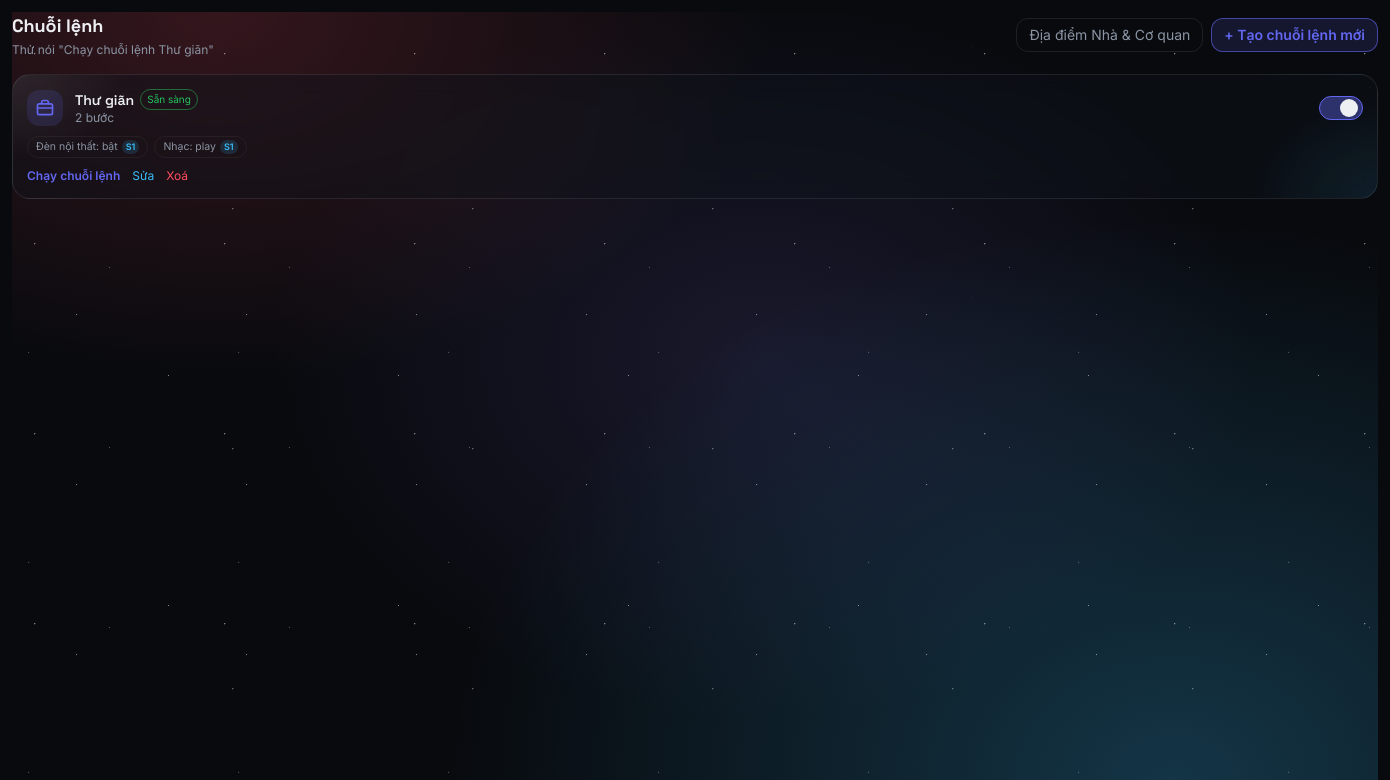
RoutinesView — chạy Routine, panel tiến độ (#292) › chưa có phiên lái -> báo lỗi, KHÔNG gọi runRoutine
Click the button "Chạy chuỗi lệnh" at point(74, 176), box top-left (27, 168), bottom-right (120, 184)
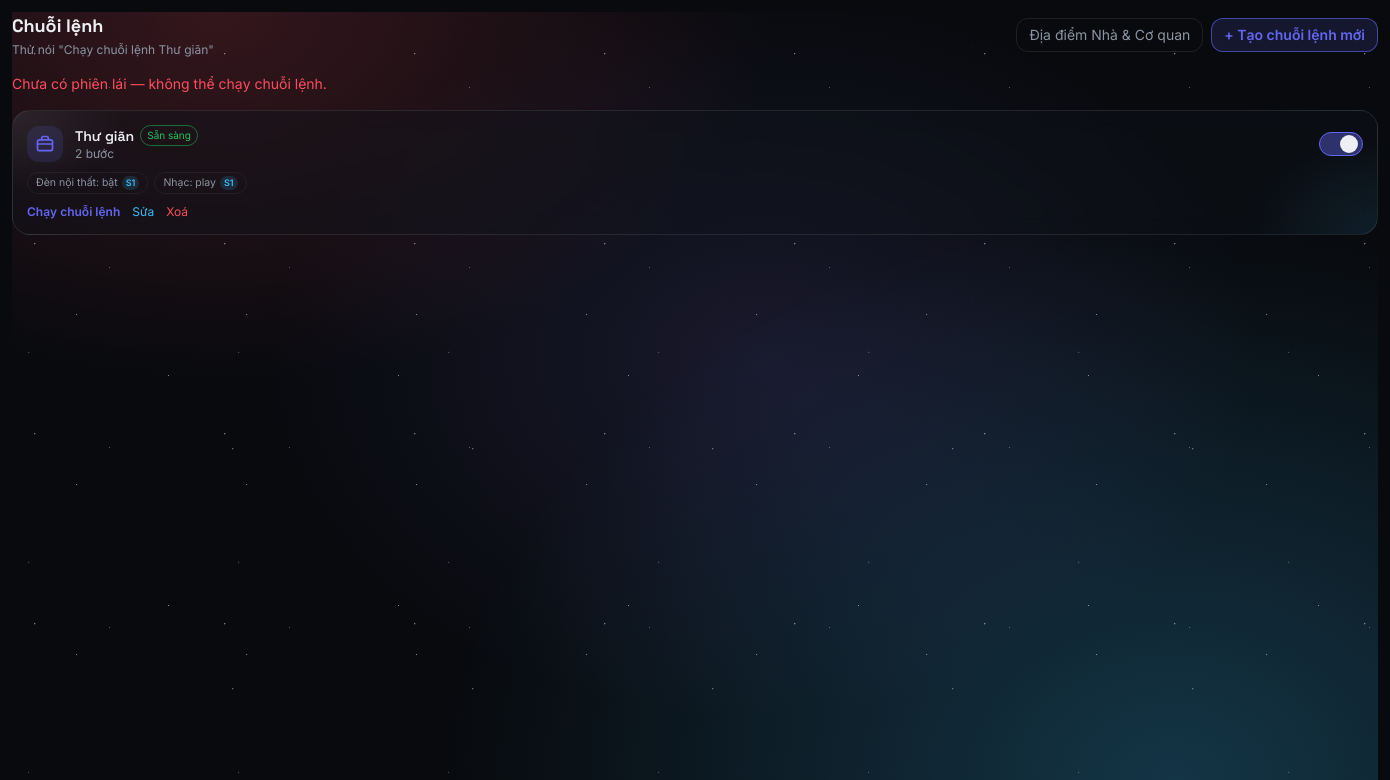
Result: the text "Chưa có phiên lái — không thể chạy chuỗi lệnh." is shown at top-left (12, 75), bottom-right (327, 92)
